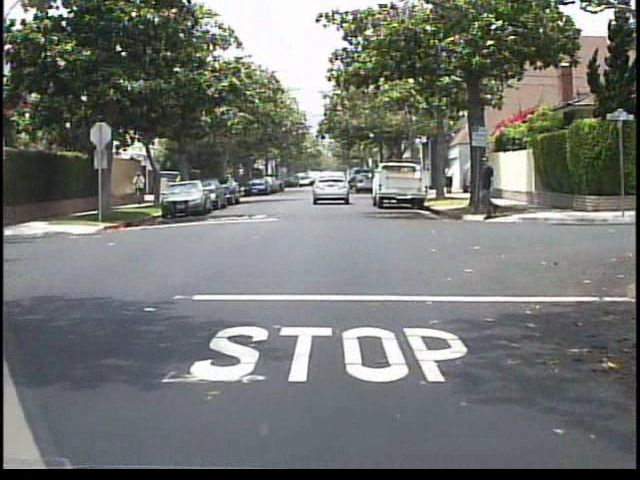person: (473, 153, 505, 220), (130, 170, 151, 206), (171, 171, 188, 203), (442, 161, 456, 199)
